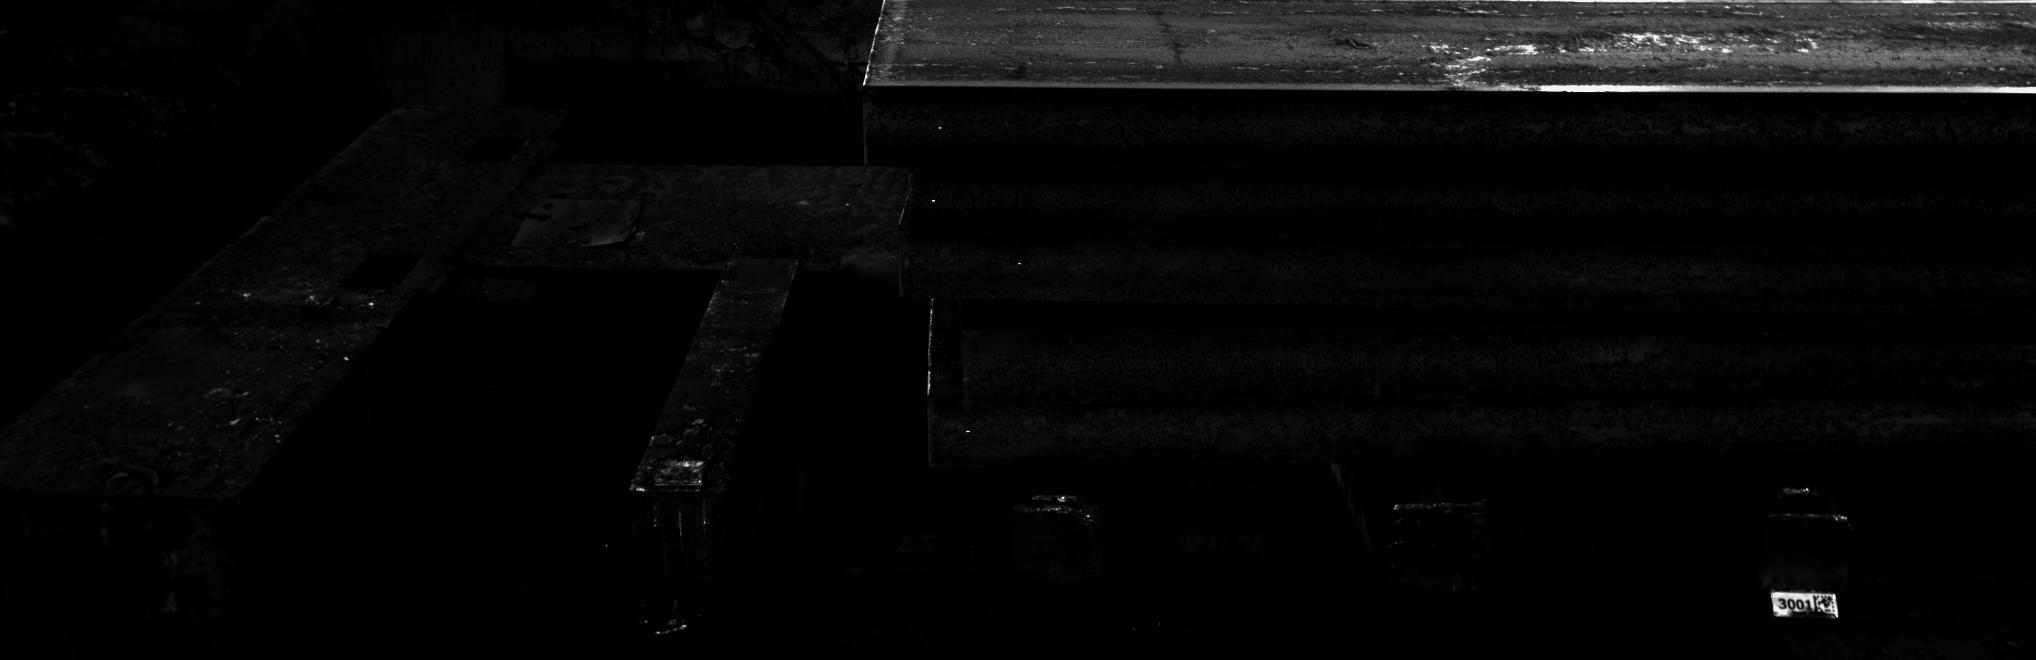data matrix: (1810, 591, 1840, 624)
